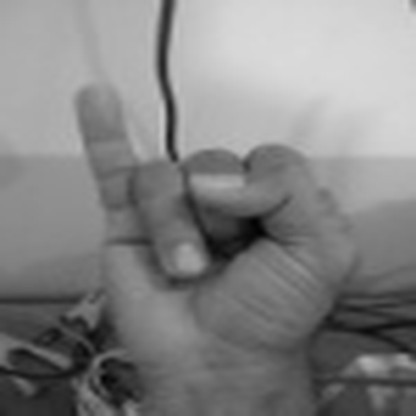i: (66, 78, 365, 372)
